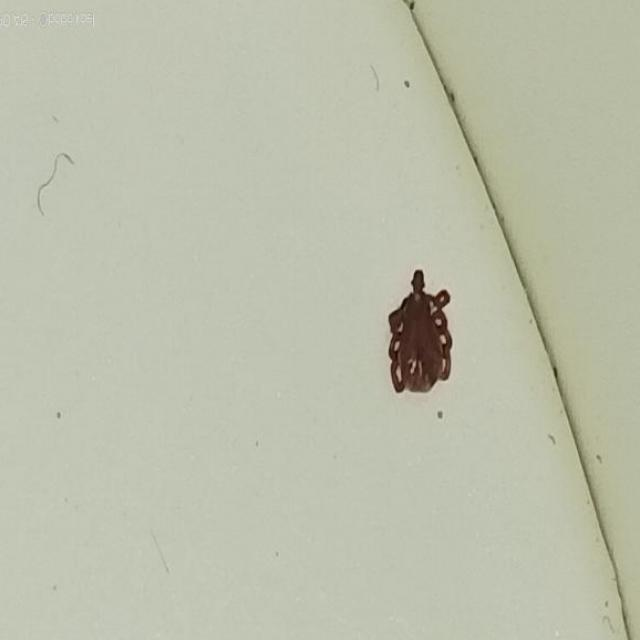Rhipicephalus Sanguineus-M: (386, 268, 455, 394)
